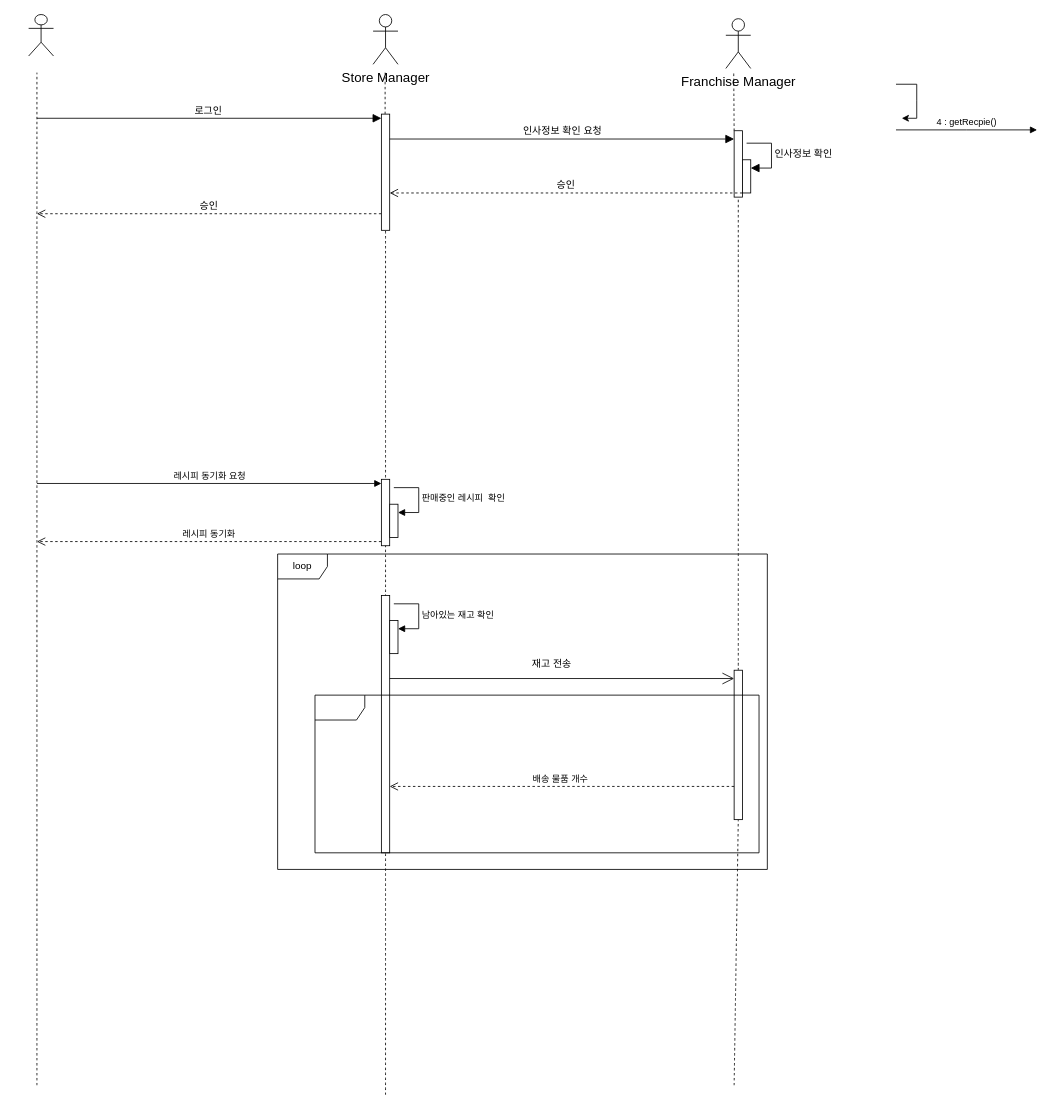
Some shapes in this 1058 by 1111 pixel diagram are drawn without their labels. The box of each missing label's shape, as (x1, y1, x2, y2) in pixels:
Assistant: (28, 14, 54, 56)
if inventory<target: (314, 694, 759, 853)
